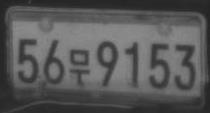1: (122, 41, 146, 88)
3: (173, 43, 196, 90)
5: (148, 42, 171, 89), (17, 38, 39, 84)
6: (43, 38, 64, 84)
9: (96, 40, 119, 86)
무: (68, 48, 91, 84)
